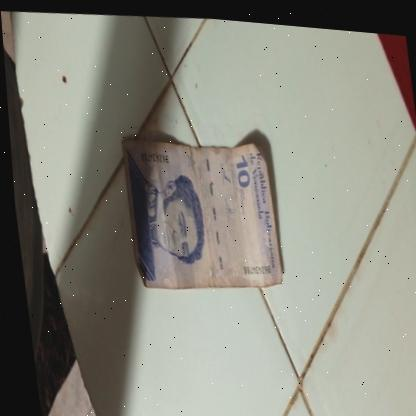ten-front-vef: (117, 130, 281, 297)
